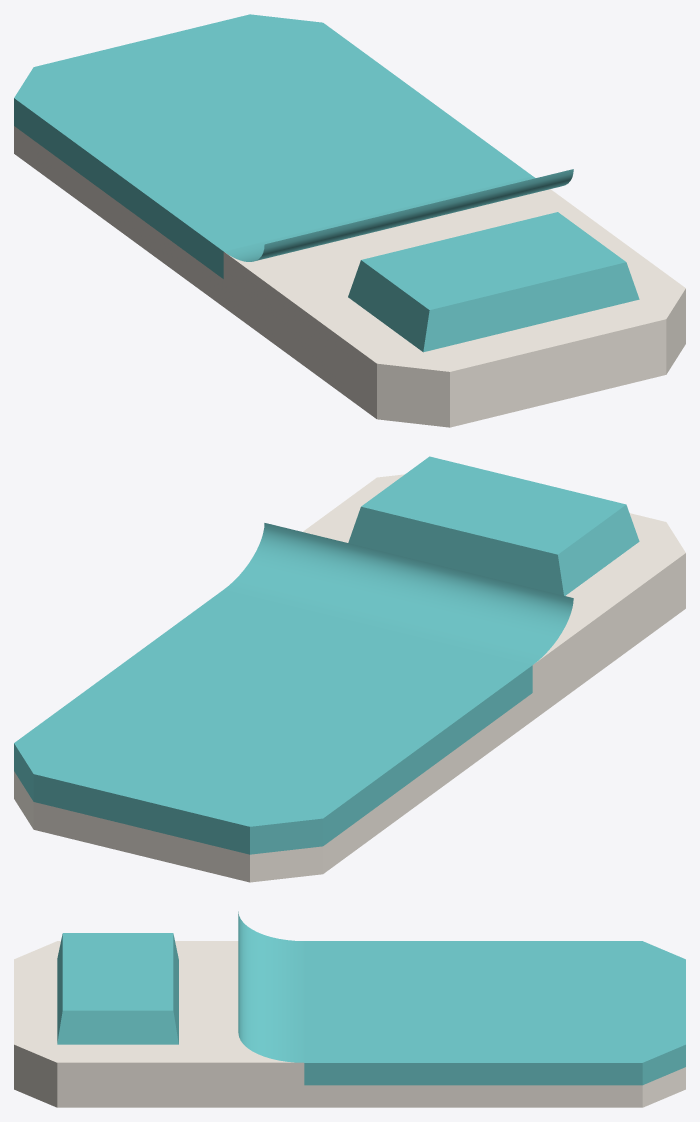
Rendered from bed_floor.glb.
The picture shows the model from 3 angles, top to bottom: view 1: azimuth 30°, elevation 25°; view 2: azimuth 150°, elevation 25°; view 3: azimuth 270°, elevation 25°; orthographic projection. The views are drawn at different scales.
Visible parts, largest first — view 1: bed_floor; view 2: bed_floor; view 3: bed_floor.
Boxes of the visible parts, box(x1,y1,x2,y2) form: bed_floor: box(14, 14, 685, 427); bed_floor: box(14, 456, 685, 882); bed_floor: box(14, 911, 685, 1107).
Size of the model in its own units: 0.3203 by 0.0921 by 0.7473.
